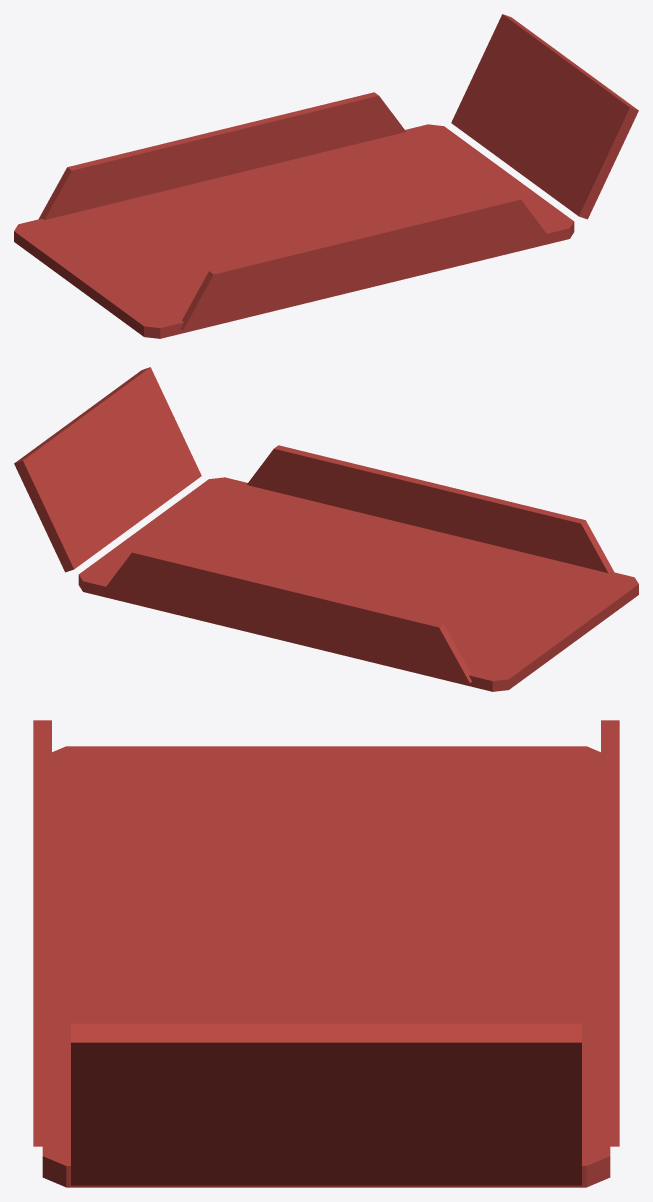
The model's file is plate_lod2.glb.
3 renders of one model, top to bottom at view 1: azimuth 30°, elevation 25°; view 2: azimuth 150°, elevation 25°; view 3: azimuth 270°, elevation 25°, orthographic. The views are drawn at different scales.
Parts seen in each view (by area): view 1: plate_lod2; view 2: plate_lod2; view 3: plate_lod2.
Boxes of the visible parts, x1,y1,x2,y2 form: plate_lod2: (14, 14, 638, 338); plate_lod2: (14, 367, 638, 691); plate_lod2: (33, 720, 619, 1187).
Size of the model in its own units: 0.4844 by 0.1024 by 0.248.
